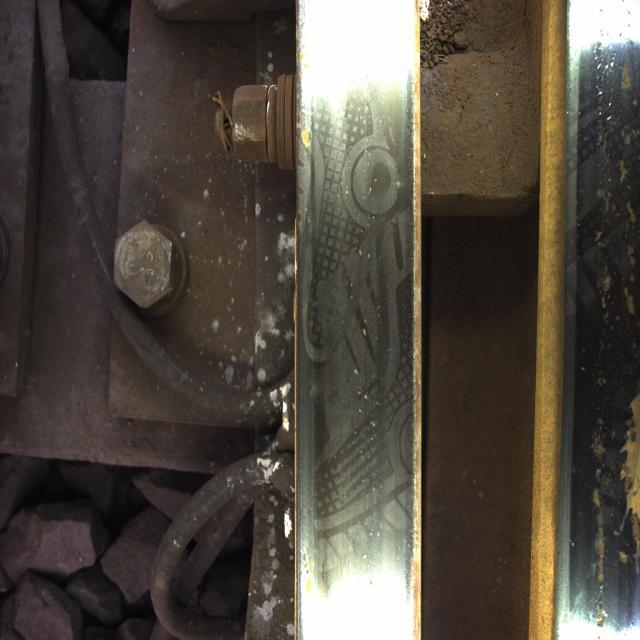crack: (578, 41, 640, 628)
